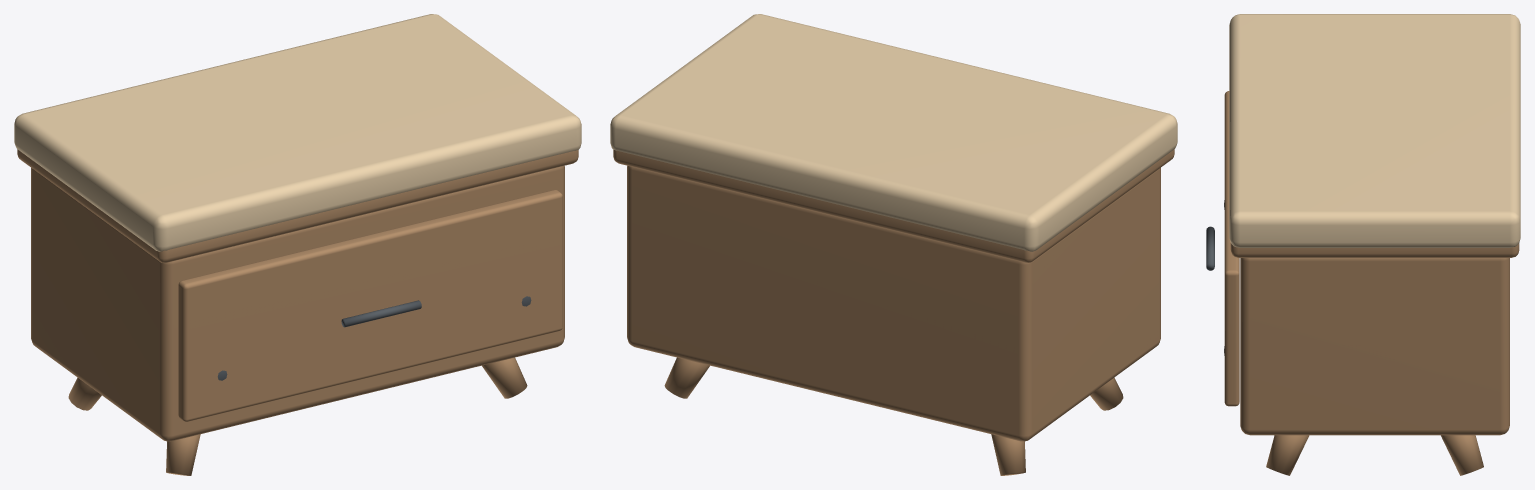
Rendered from atelier-toy-chest.glb.
3 renders of one model, left to right at view 1: azimuth 30°, elevation 25°; view 2: azimuth 150°, elevation 25°; view 3: azimuth 270°, elevation 25°, orthographic.
Parts seen in each view (by area): view 1: legs.051, accent.012, metal.015; view 2: legs.051, accent.012; view 3: accent.012, legs.051, metal.015.
Boxes of the visible parts, x1,y1,x2,y2 form: legs.051: [17, 149, 578, 475]; accent.012: [14, 14, 581, 251]; metal.015: [217, 296, 531, 380]; legs.051: [613, 149, 1174, 475]; accent.012: [610, 14, 1177, 251]; accent.012: [1229, 14, 1520, 247]; legs.051: [1224, 91, 1519, 475]; metal.015: [1206, 200, 1224, 355].
Size of the model in its own units: 0.9 by 0.5793 by 0.583.
